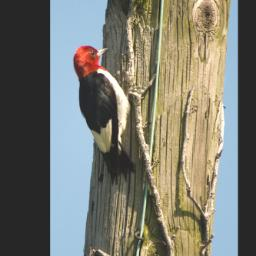Woodpecker: (72, 44, 145, 185)
